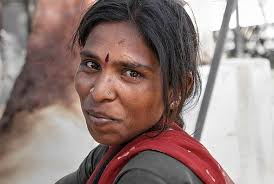indian_female: (46, 1, 194, 144)
